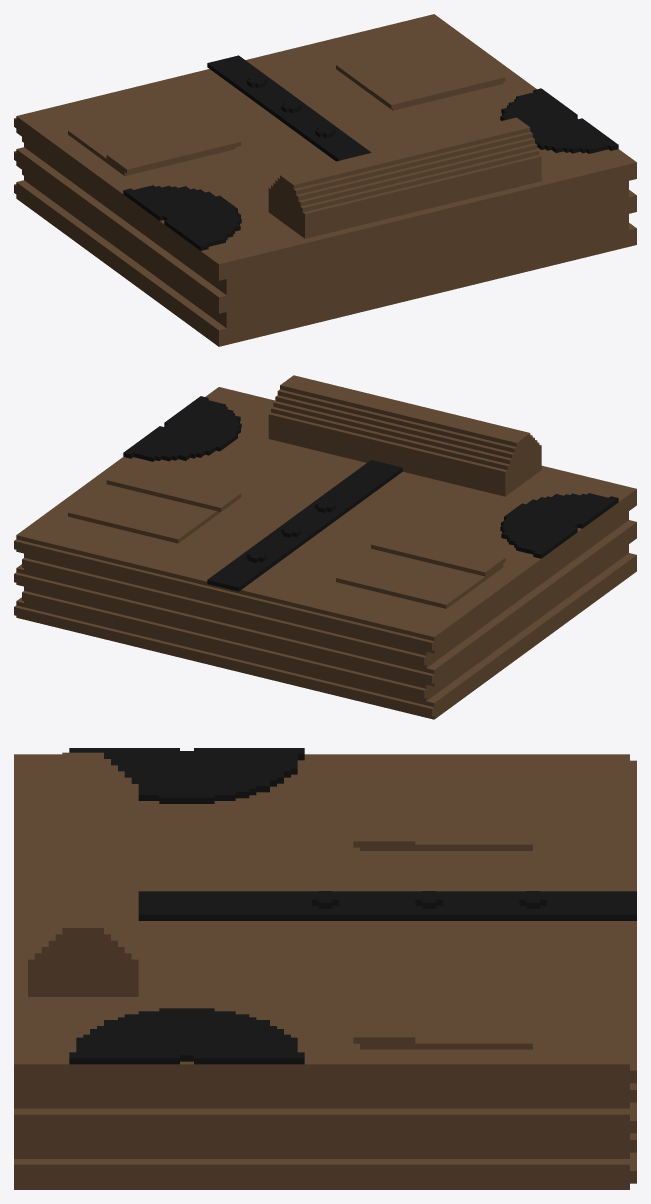
The model's file is sleeveless_duster_fur.glb.
3 views of the same model, one above another, from view 1: azimuth 30°, elevation 25°; view 2: azimuth 150°, elevation 25°; view 3: azimuth 270°, elevation 25° (orthographic). The views are drawn at different scales.
Visible parts, largest first — view 1: sleeveless_duster_fur:compound; view 2: sleeveless_duster_fur:compound; view 3: sleeveless_duster_fur:compound.
Part boxes in pixels (x1=…): sleeveless_duster_fur:compound: x1=14, y1=14, x2=636, y2=346; sleeveless_duster_fur:compound: x1=14, y1=375, x2=636, y2=719; sleeveless_duster_fur:compound: x1=14, y1=748, x2=636, y2=1189.
Bounding box in the file's own units: 0.424 × 0.124 × 0.36.
